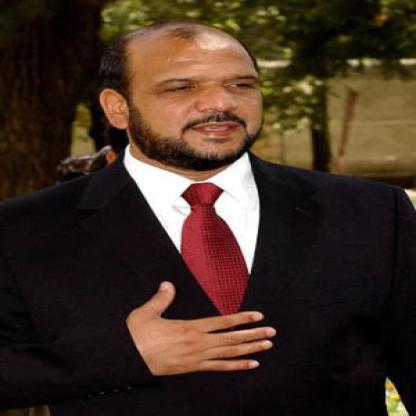face: (122, 22, 266, 172)
